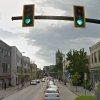Traffic light: (15, 2, 100, 40)
